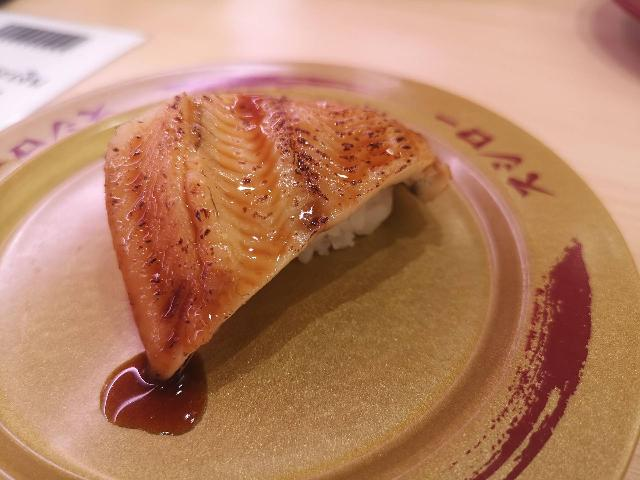jangold: (0, 16, 640, 480)
